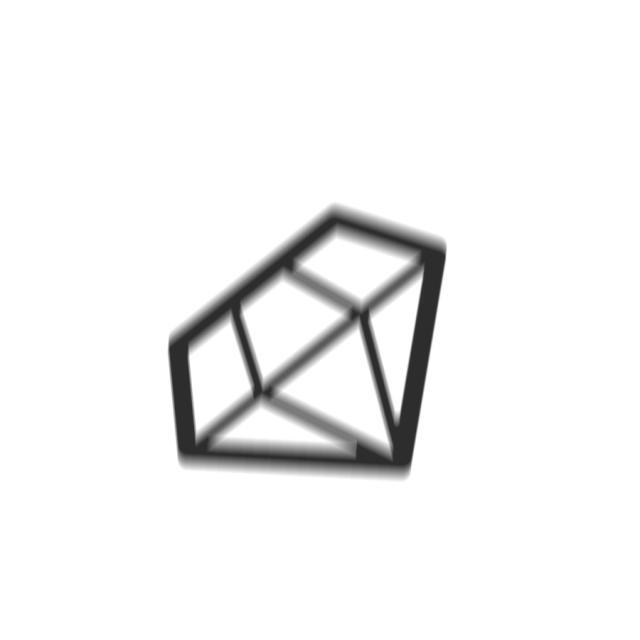diamond: (162, 196, 456, 485)
